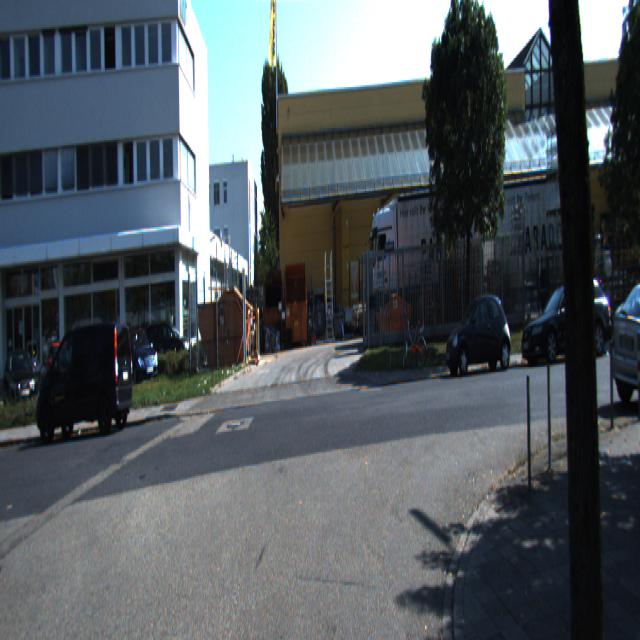Car: (368, 178, 483, 334), (35, 317, 135, 437), (519, 273, 616, 367), (444, 290, 511, 370), (605, 271, 639, 408), (121, 325, 159, 392)
